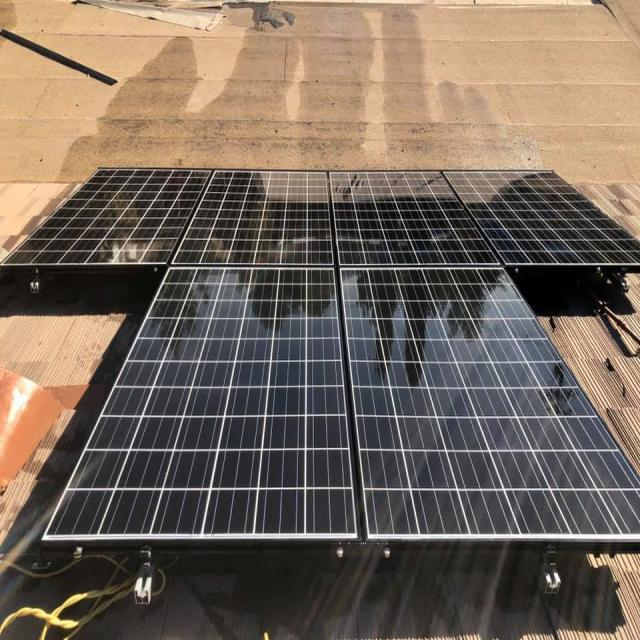clean-solar-panel: (1, 168, 640, 547)
